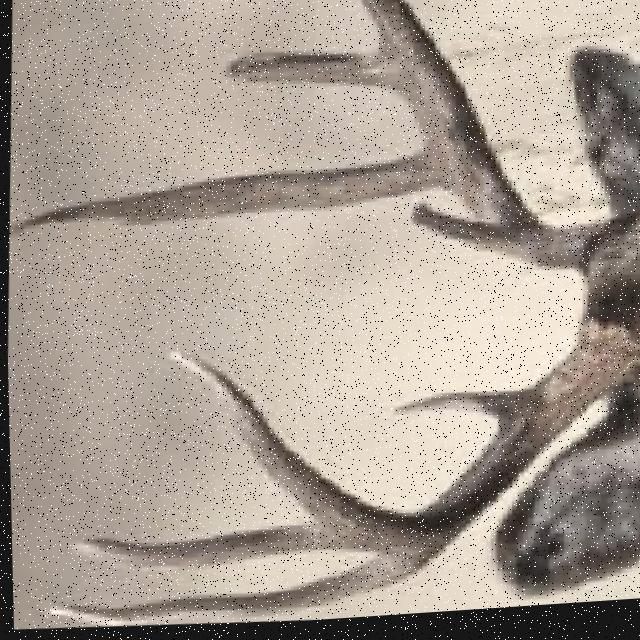L-F: (354, 0, 615, 286)
L-G1: (407, 204, 534, 265)
L-G2: (7, 154, 445, 244)
L-G3: (219, 54, 394, 96)
R-F: (163, 327, 640, 564)
R-G1: (387, 397, 528, 431)
R-G2: (42, 553, 431, 627)
